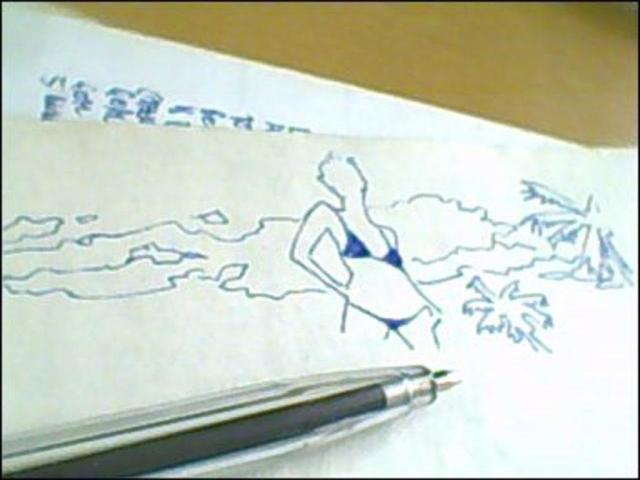PEN: (5, 361, 480, 479)
